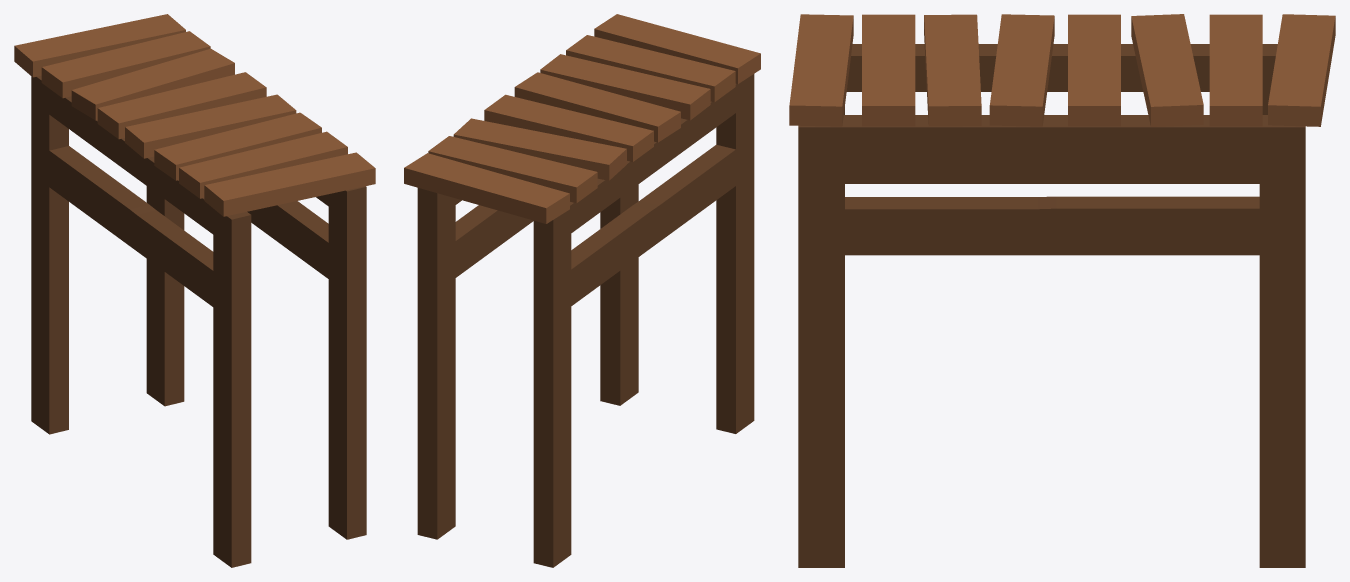
File: pontoon.fbx
3 views of the same model, side by side, from view 1: azimuth 30°, elevation 25°; view 2: azimuth 150°, elevation 25°; view 3: azimuth 270°, elevation 25° (orthographic). The views are drawn at different scales.
Parts seen in each view (by area): view 1: pontoon; view 2: pontoon; view 3: pontoon.
Part boxes in pixels (bbox=[...]): pontoon: bbox=[14, 14, 375, 567]; pontoon: bbox=[404, 14, 760, 567]; pontoon: bbox=[789, 14, 1335, 567].
Bounding box in the file's own units: 189 × 442 × 470.
1 material, 1 textured.
